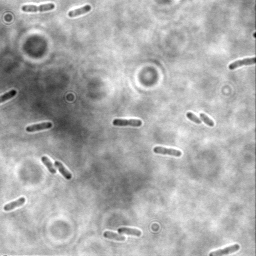Dividing: (227, 56, 255, 71), (21, 2, 56, 14), (207, 243, 241, 255), (152, 145, 183, 158), (112, 117, 143, 128)
Rod: (54, 160, 73, 180), (25, 121, 54, 134), (4, 196, 26, 213), (68, 4, 93, 18), (103, 229, 127, 243), (41, 155, 57, 175), (199, 111, 216, 128), (186, 110, 203, 125), (117, 228, 143, 237)
